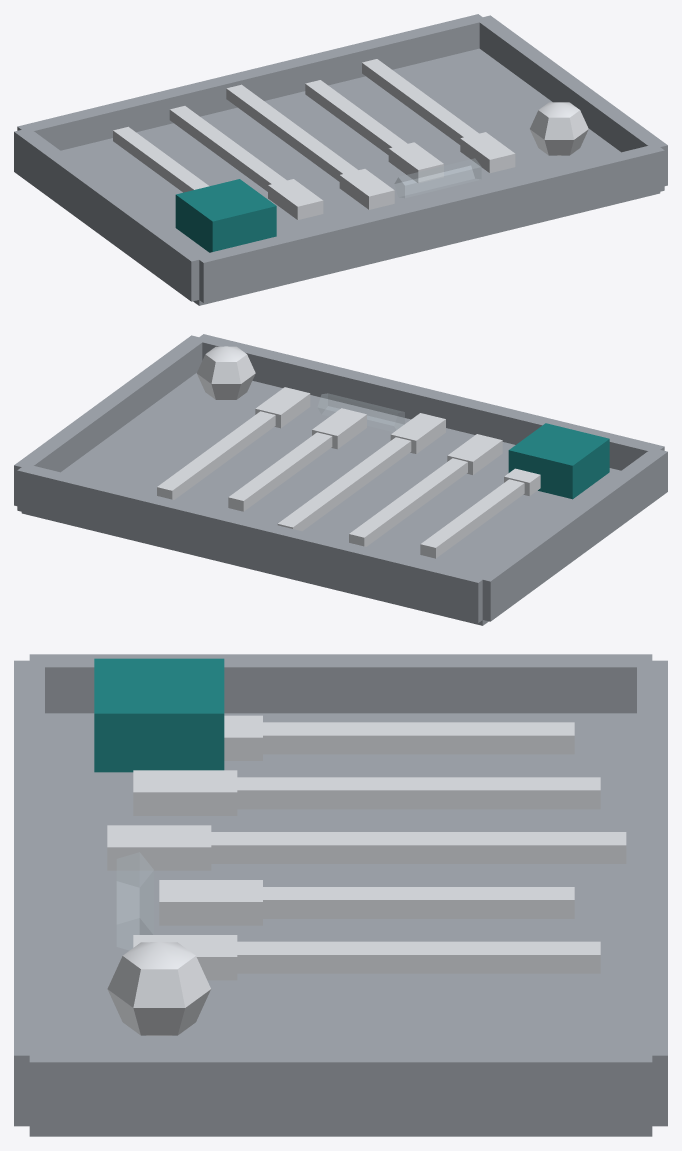
The model's file is medtool_surgical_instrument_tray.glb.
3 renders of one model, top to bottom at view 1: azimuth 30°, elevation 25°; view 2: azimuth 150°, elevation 25°; view 3: azimuth 270°, elevation 25°, orthographic. The views are drawn at different scales.
Visible parts, largest first — view 1: medtool_surgical_instrument_tray; view 2: medtool_surgical_instrument_tray; view 3: medtool_surgical_instrument_tray.
Boxes of the visible parts, x1,y1,x2,y2 form: medtool_surgical_instrument_tray: (14, 14, 667, 305); medtool_surgical_instrument_tray: (14, 334, 667, 625); medtool_surgical_instrument_tray: (14, 654, 667, 1136).
Bounding box in the file's own units: 0.372 × 0.0595 × 0.252.
